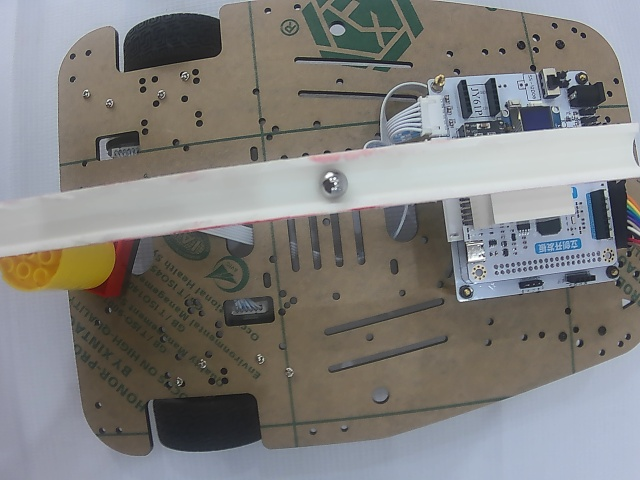steelball: (319, 168, 349, 199)
